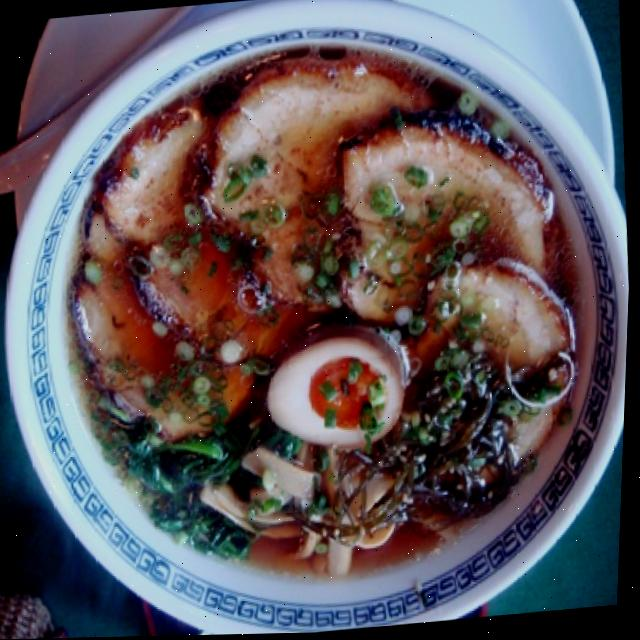面条主食: (22, 15, 639, 639)
